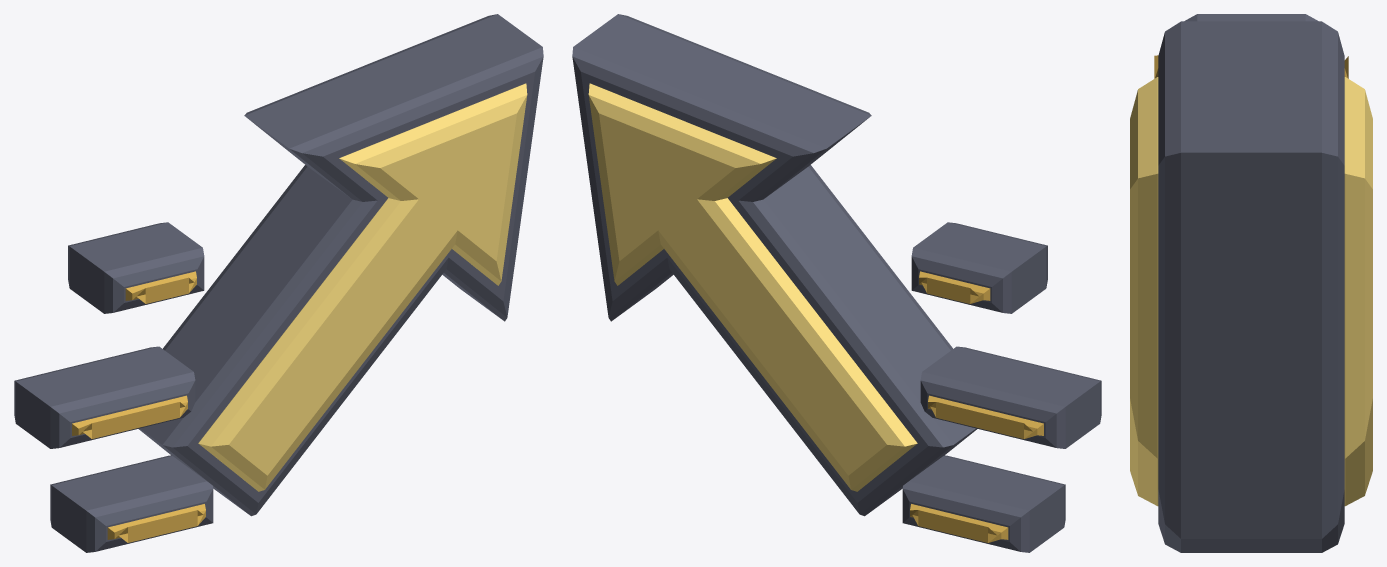
Rendered from game-ui-icon-library-dash-arrow-8e1661e6__19029.glb.
3 views of the same model, side by side, from view 1: azimuth 30°, elevation 25°; view 2: azimuth 150°, elevation 25°; view 3: azimuth 270°, elevation 25° (orthographic). The views are drawn at different scales.
Parts seen in each view (by area): view 1: dash-arrow; view 2: dash-arrow; view 3: dash-arrow.
Part boxes in pixels (bbox=[...]): dash-arrow: bbox=[14, 14, 543, 552]; dash-arrow: bbox=[572, 14, 1101, 552]; dash-arrow: bbox=[1130, 14, 1372, 552].
Size of the model in its own units: 0.98 by 0.7681 by 0.2705.
